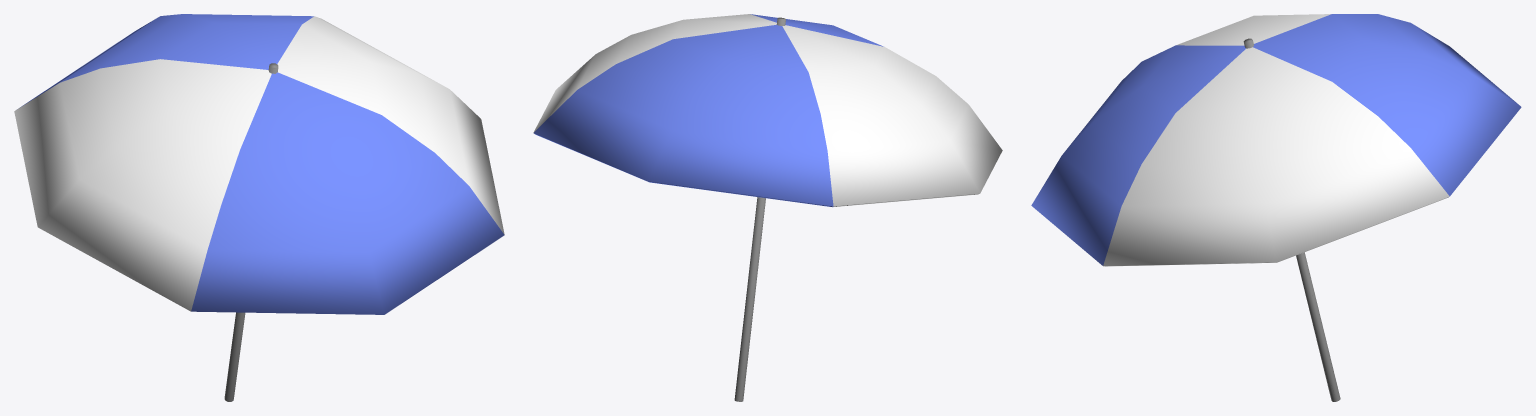
The model's file is beach-umbrella.fbx.
3 renders of one model, left to right at view 1: azimuth 30°, elevation 25°; view 2: azimuth 150°, elevation 25°; view 3: azimuth 270°, elevation 25°, orthographic. The views are drawn at different scales.
Parts seen in each view (by area): view 1: Umbrella; view 2: Umbrella; view 3: Umbrella.
Part boxes in pixels (<box>): Umbrella: <box>14,14,504,401</box>; Umbrella: <box>533,14,1002,401</box>; Umbrella: <box>1031,14,1521,401</box>.
Bounding box in the file's own units: 161 × 128 × 157.
